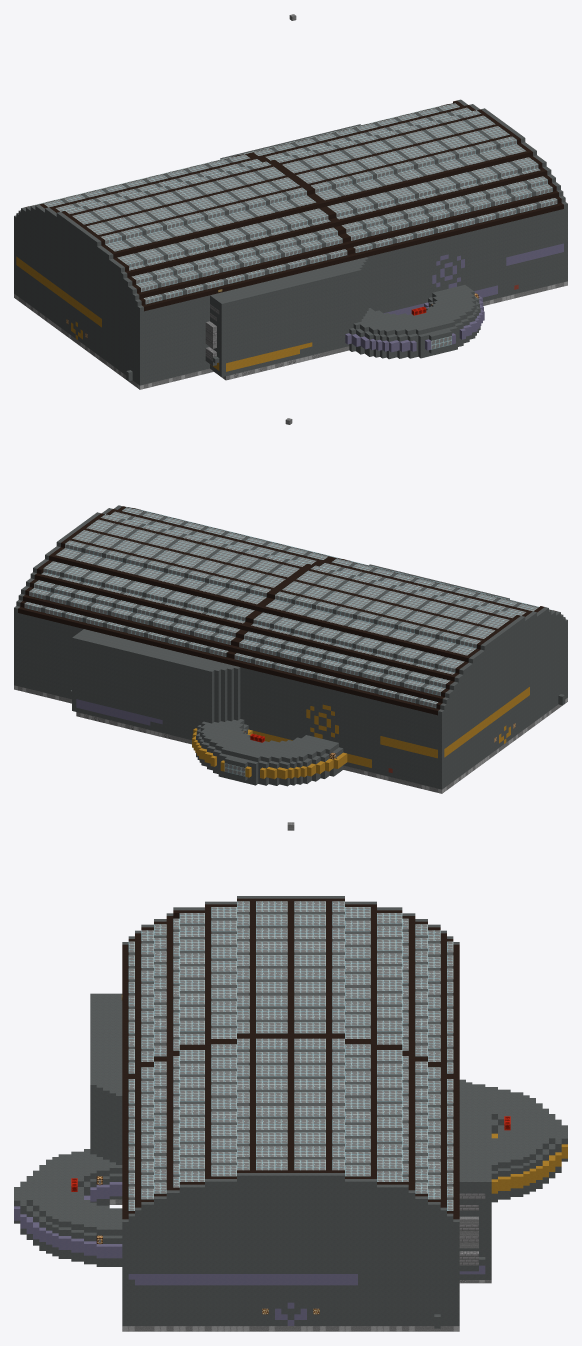
The model's file is minecraft.obj.
The picture shows the model from 3 angles, top to bottom: view 1: azimuth 30°, elevation 25°; view 2: azimuth 150°, elevation 25°; view 3: azimuth 270°, elevation 25°; orthographic projection. The views are drawn at different scales.
Size of the model in its own units: 106 by 64 by 87.
